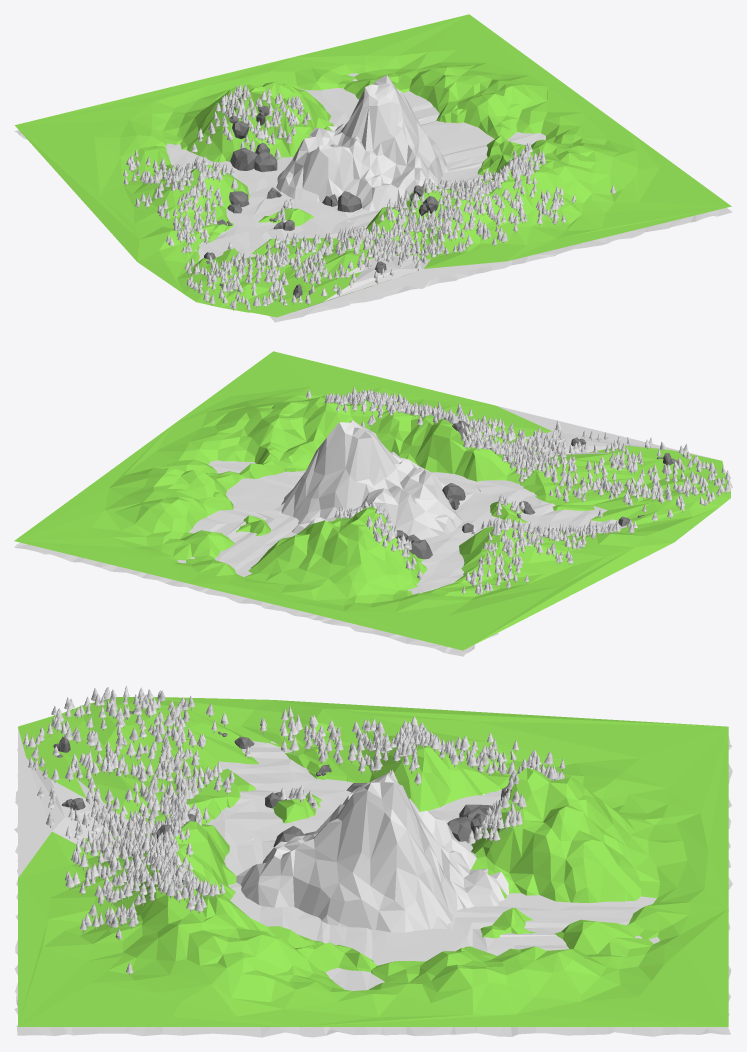
File: exterior.fbx
The picture shows the model from 3 angles, top to bottom: view 1: azimuth 30°, elevation 25°; view 2: azimuth 150°, elevation 25°; view 3: azimuth 270°, elevation 25°; orthographic projection. The views are drawn at different scales.
Parts seen in each view (by area): view 1: Landscape, water; view 2: Landscape, water; view 3: Landscape, water.
Part boxes in pixels (x1,y1,x2,y2): Landscape: (15, 14, 731, 317); water: (14, 73, 732, 322); Landscape: (14, 351, 730, 650); water: (14, 460, 626, 656); Landscape: (18, 696, 728, 1026); water: (14, 736, 732, 1037).
Size of the model in its own units: 277 by 52.51 by 253.
